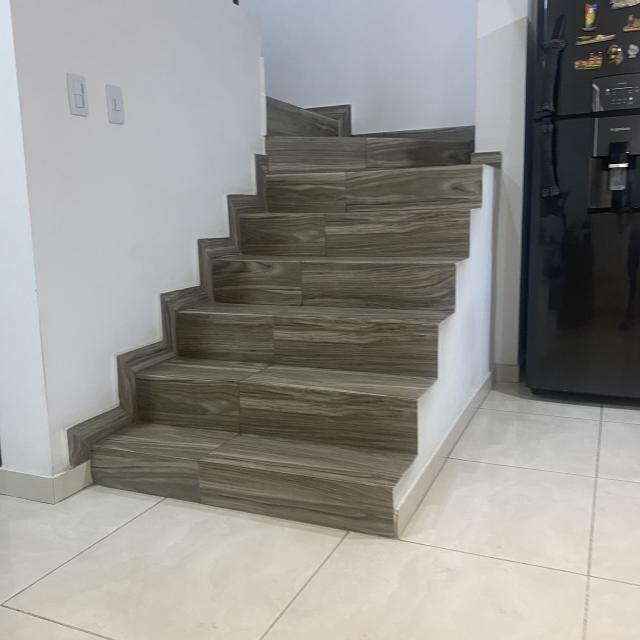stair: (62, 112, 504, 553)
